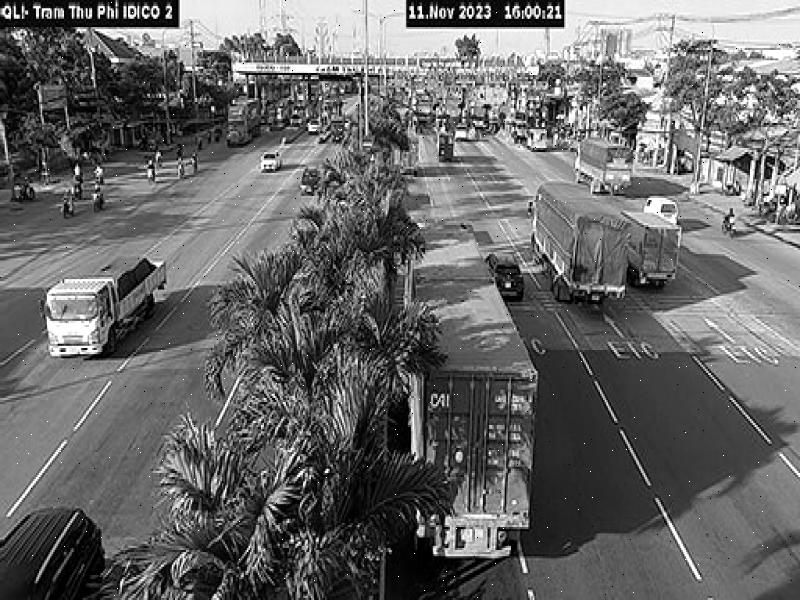truck: (400, 208, 542, 576), (527, 179, 633, 309), (45, 252, 168, 364), (621, 211, 681, 296), (572, 137, 633, 195)
